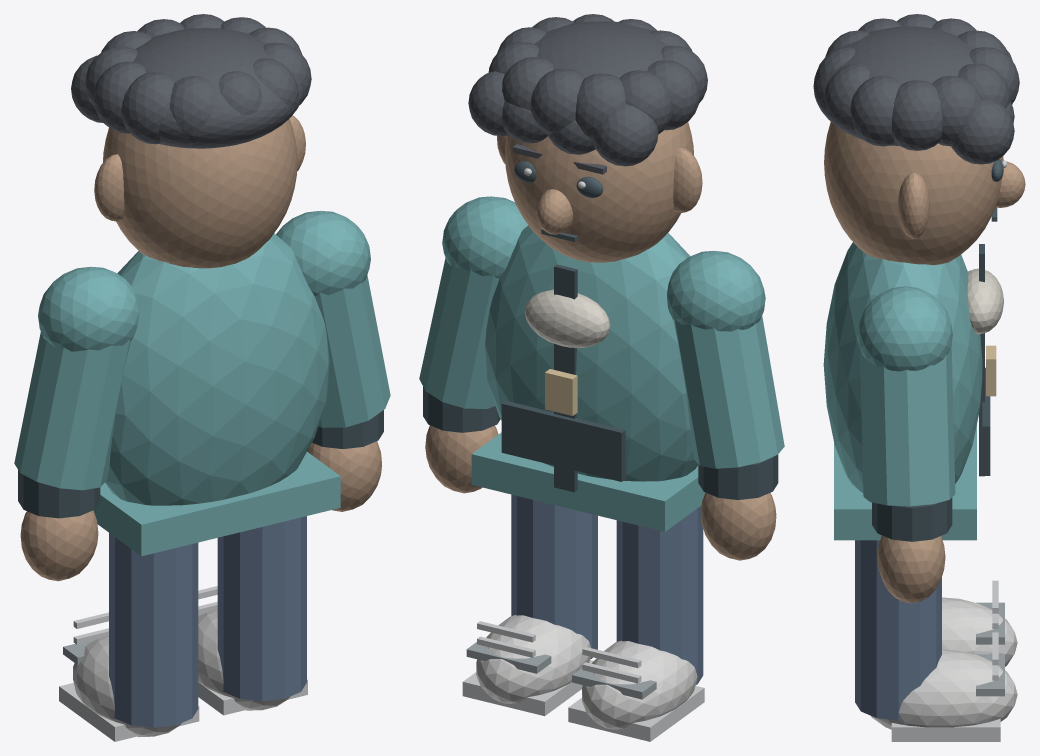
File: student_bucket_a.glb
3 renders of one model, left to right at view 1: azimuth 30°, elevation 25°; view 2: azimuth 150°, elevation 25°; view 3: azimuth 270°, elevation 25°, orthographic. The views are drawn at different scales.
Parts seen in each view (by area): view 1: StudentPart_teal, StudentPart_denim, StudentPart_skin2, StudentPart_hair1, StudentPart_sneaker, StudentPart_dark, StudentPart_white; view 2: StudentPart_teal, StudentPart_hair1, StudentPart_skin2, StudentPart_denim, StudentPart_dark, StudentPart_sneaker, StudentPart_white, StudentPart_cream, StudentPart_grey, StudentPart_gold, StudentPart_ink; view 3: StudentPart_teal, StudentPart_hair1, StudentPart_skin2, StudentPart_denim, StudentPart_sneaker, StudentPart_dark, StudentPart_white, StudentPart_cream, StudentPart_grey, StudentPart_gold.
Part boxes in pixels (x1,y1,x2,y2): StudentPart_teal: (14,210,390,556); StudentPart_denim: (109,516,306,727); StudentPart_skin2: (20,115,381,581); StudentPart_hair1: (71,14,311,148); StudentPart_sneaker: (73,609,290,736); StudentPart_dark: (18,410,383,518); StudentPart_white: (59,586,307,741); StudentPart_teal: (419,196,784,531); StudentPart_hair1: (468,14,707,174); StudentPart_skin2: (425,122,776,560); StudentPart_denim: (511,494,703,684); StudentPart_dark: (423,264,778,499); StudentPart_sneaker: (476,615,697,729); StudentPart_white: (462,168,704,741); StudentPart_cream: (524,289,610,347); StudentPart_grey: (466,642,656,699); StudentPart_gold: (545,369,577,415); StudentPart_ink: (514,161,603,241); StudentPart_teal: (823,242,982,540); StudentPart_hair1: (813,14,1019,164); StudentPart_skin2: (824,122,1025,603); StudentPart_denim: (855,540,941,720); StudentPart_sneaker: (871,597,1017,729); StudentPart_dark: (872,244,990,541); StudentPart_white: (891,160,1006,741); StudentPart_cream: (967,268,1003,334); StudentPart_grey: (976,602,1004,696); StudentPart_gold: (986,345,996,396).
Size of the model in its own units: 1.2 by 2.16 by 0.623.
